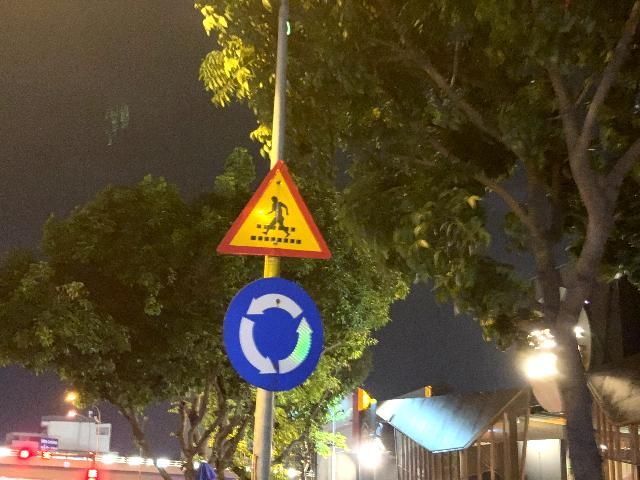duong-nguoi-di-bo-cat-ngang: (216, 159, 331, 260)
noi-giao-nhau-chay-theo-vong-xuyen: (222, 276, 325, 393)
